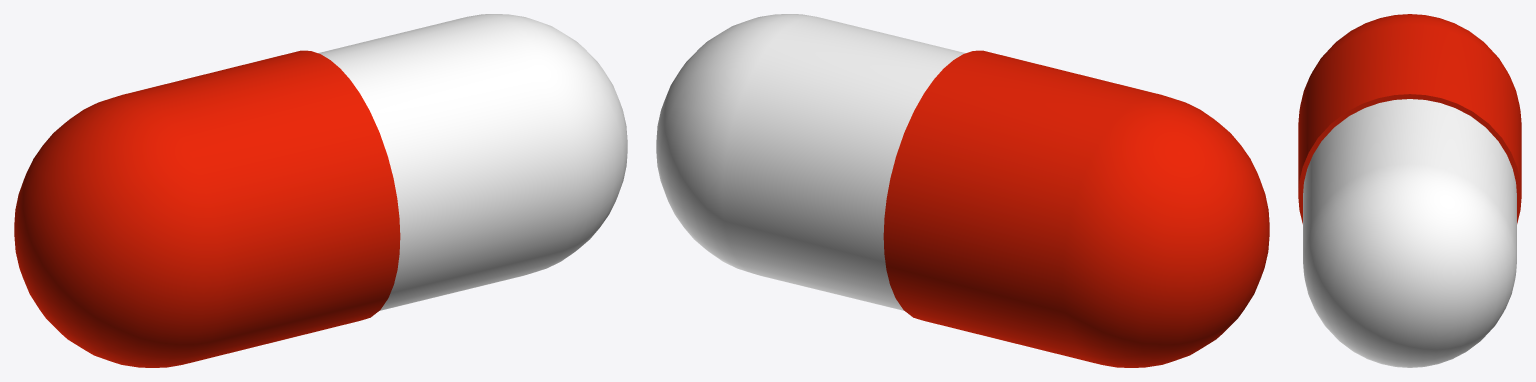
File: pill.gltf
The picture shows the model from 3 angles, left to right: view 1: azimuth 30°, elevation 25°; view 2: azimuth 150°, elevation 25°; view 3: azimuth 270°, elevation 25°; orthographic projection. The views are drawn at different scales.
Parts seen in each view (by area): view 1: Roundcube.001_Material.001_0, Roundcube_Material_0; view 2: Roundcube.001_Material.001_0, Roundcube_Material_0; view 3: Roundcube_Material_0, Roundcube.001_Material.001_0.
Boxes of the visible parts, box(x1,y1,x2,y2) form: Roundcube.001_Material.001_0: box(14, 50, 400, 367); Roundcube_Material_0: box(318, 14, 627, 310); Roundcube.001_Material.001_0: box(883, 50, 1269, 367); Roundcube_Material_0: box(656, 14, 965, 310); Roundcube_Material_0: box(1303, 99, 1516, 367); Roundcube.001_Material.001_0: box(1298, 14, 1521, 223).
Bounding box in the file's own units: 5.03 × 2.09 × 2.09.
